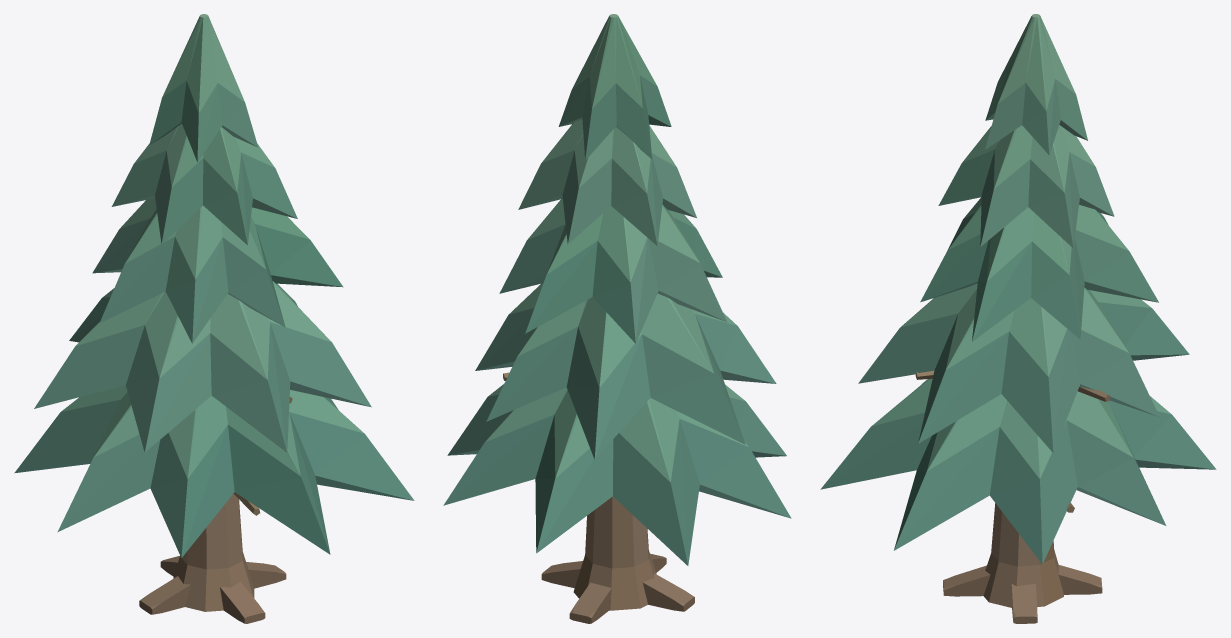
The picture shows the model from 3 angles, left to right: view 1: azimuth 30°, elevation 25°; view 2: azimuth 150°, elevation 25°; view 3: azimuth 270°, elevation 25°; orthographic projection.
Parts seen in each view (by area): view 1: Windward Pine; view 2: Windward Pine; view 3: Windward Pine.
Boxes of the visible parts, x1,y1,x2,y2 form: Windward Pine: [14, 14, 414, 623]; Windward Pine: [443, 14, 791, 623]; Windward Pine: [820, 14, 1216, 623].
Bounding box in the file's own units: 2.06 × 3.51 × 2.2.
